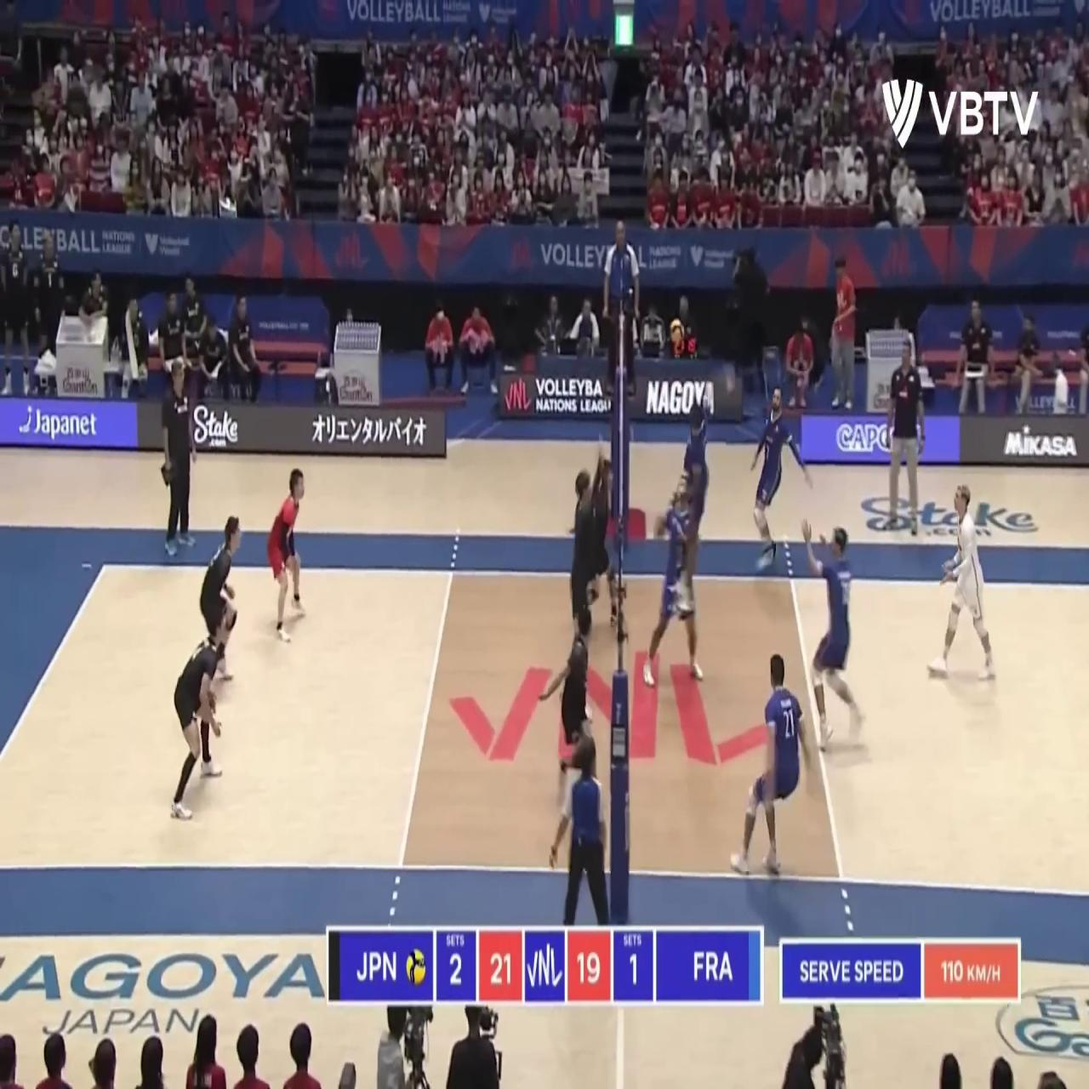ball: (669, 319, 685, 345)
